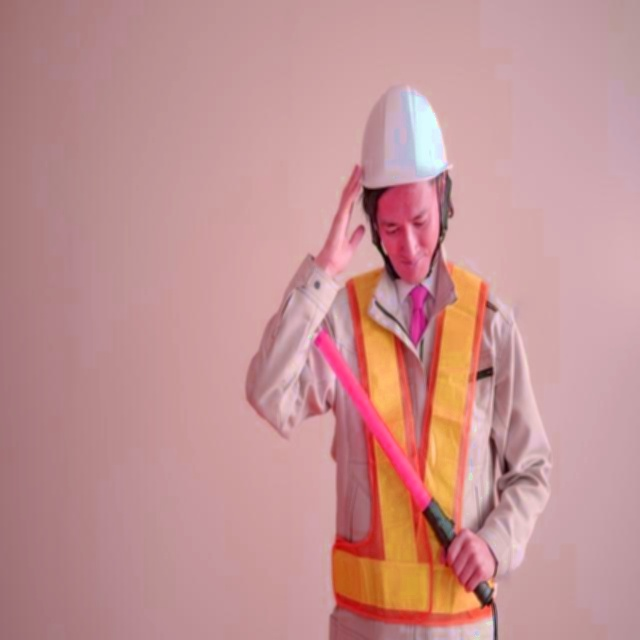Con_Casco: (362, 85, 455, 269)
Con_Chaleco: (334, 266, 490, 611)
